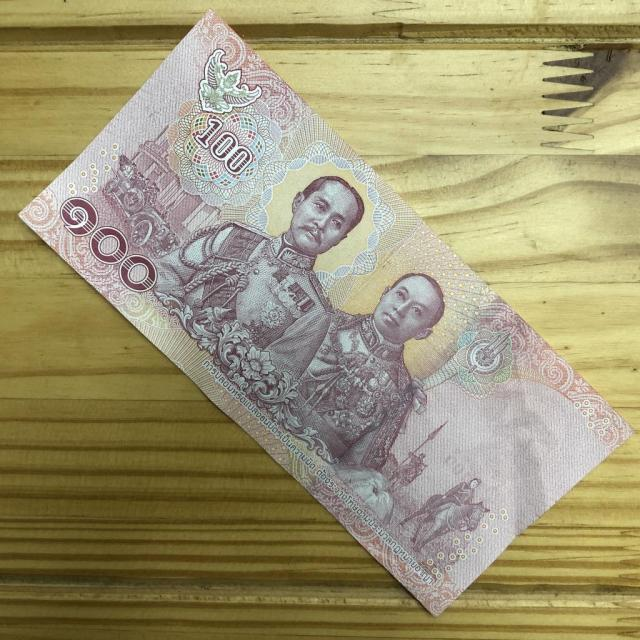THAI100: (21, 13, 631, 614)
